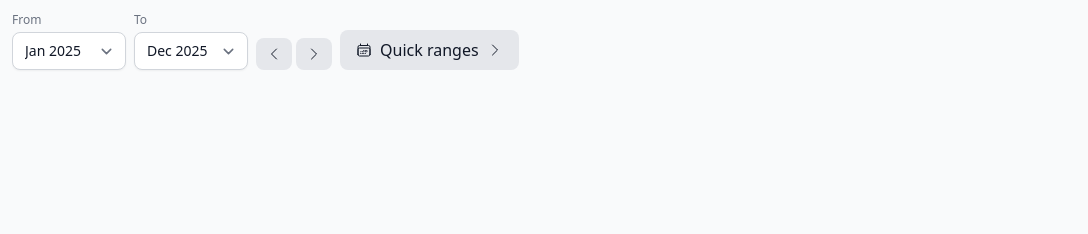
Test: MonthRangePicker quick ranges › opens on the year the period starts in, with that period marked
Click the button "Quick ranges" at (429, 50), box [340, 30, 519, 70]
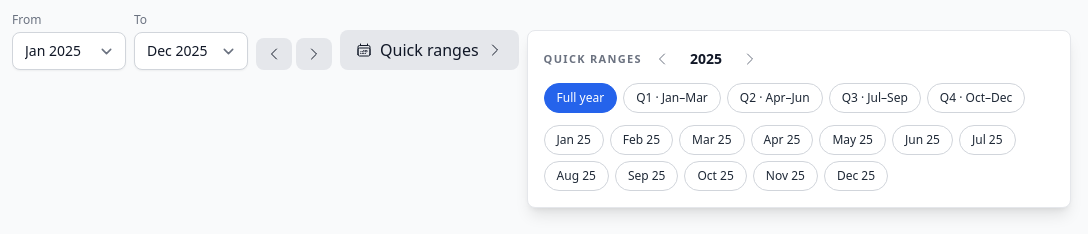
Check: the text "2025" is shown, box [690, 49, 722, 68]
